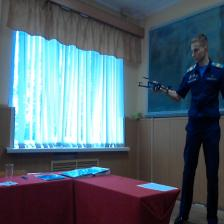drone: (131, 69, 175, 97)
